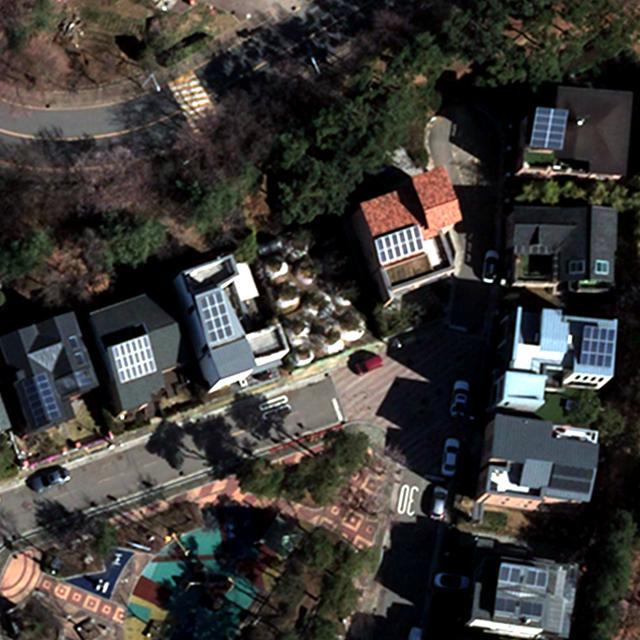panel: (17, 371, 62, 430), (109, 333, 159, 383), (196, 288, 236, 346), (373, 222, 424, 265), (547, 460, 595, 498), (530, 105, 568, 150), (578, 324, 613, 371), (523, 565, 549, 590), (497, 562, 523, 586), (518, 598, 545, 618), (493, 595, 518, 615), (74, 349, 86, 369), (68, 333, 79, 352)
